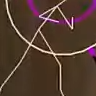hacks_2: (1, 1, 73, 96)
